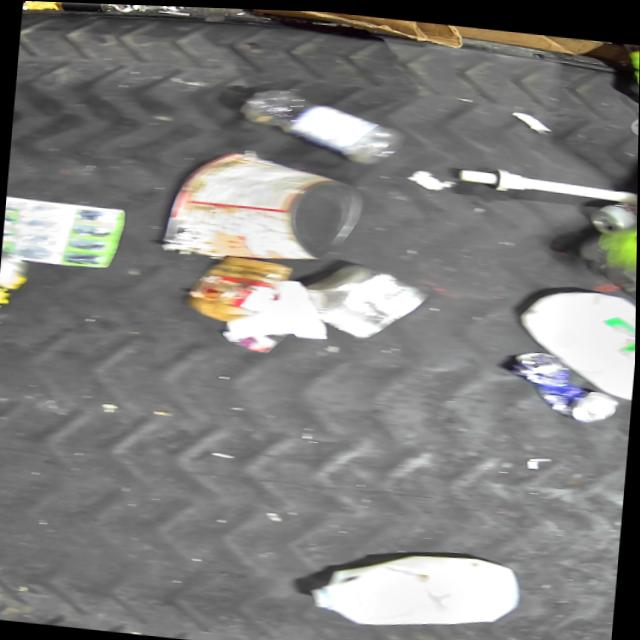can: (150, 137, 376, 275), (297, 254, 433, 343), (504, 344, 626, 420), (0, 253, 31, 335)
milk_jug: (305, 531, 525, 640), (511, 278, 637, 396)
plastic_bottle: (235, 80, 406, 166)
